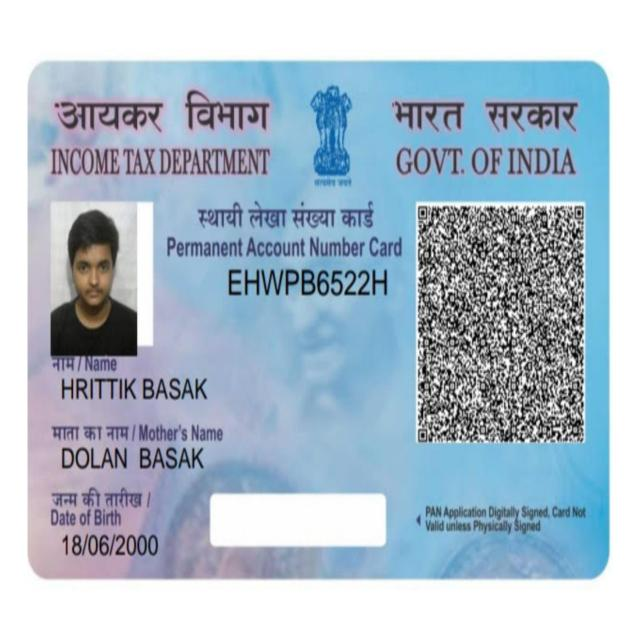pan_card: (33, 71, 609, 572)
